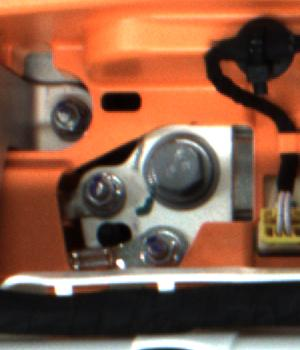nut_b: (145, 126, 218, 205)
screw_s: (84, 166, 125, 210), (43, 96, 81, 137), (141, 229, 175, 269)
